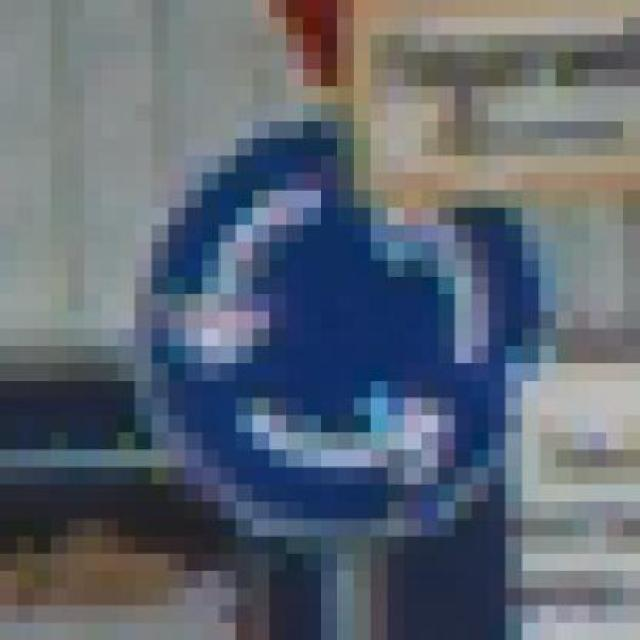Round-About: (67, 86, 573, 554)
